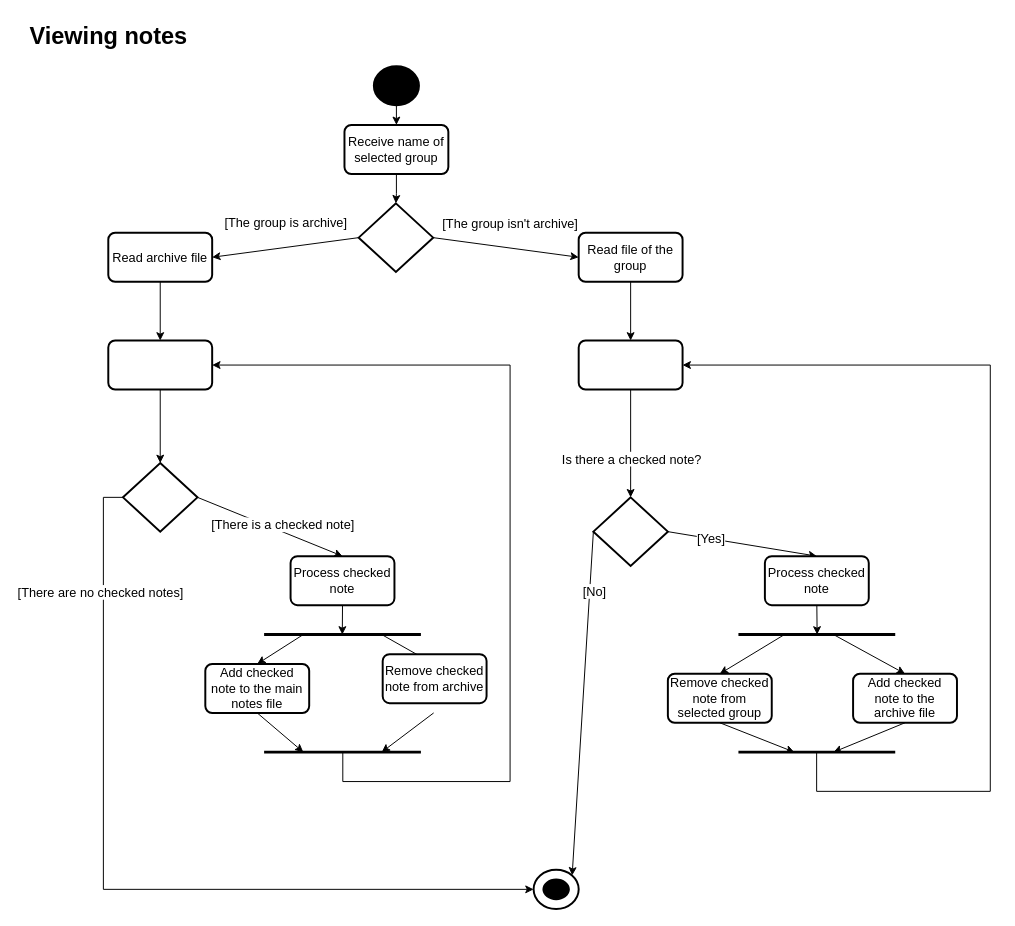
This 1015x926 diagram has some shape labels left out. Each missing label, with the centre of its shape:
"Show archived notes" goes at point (160, 364).
"Show notes from the group" goes at point (630, 364).
